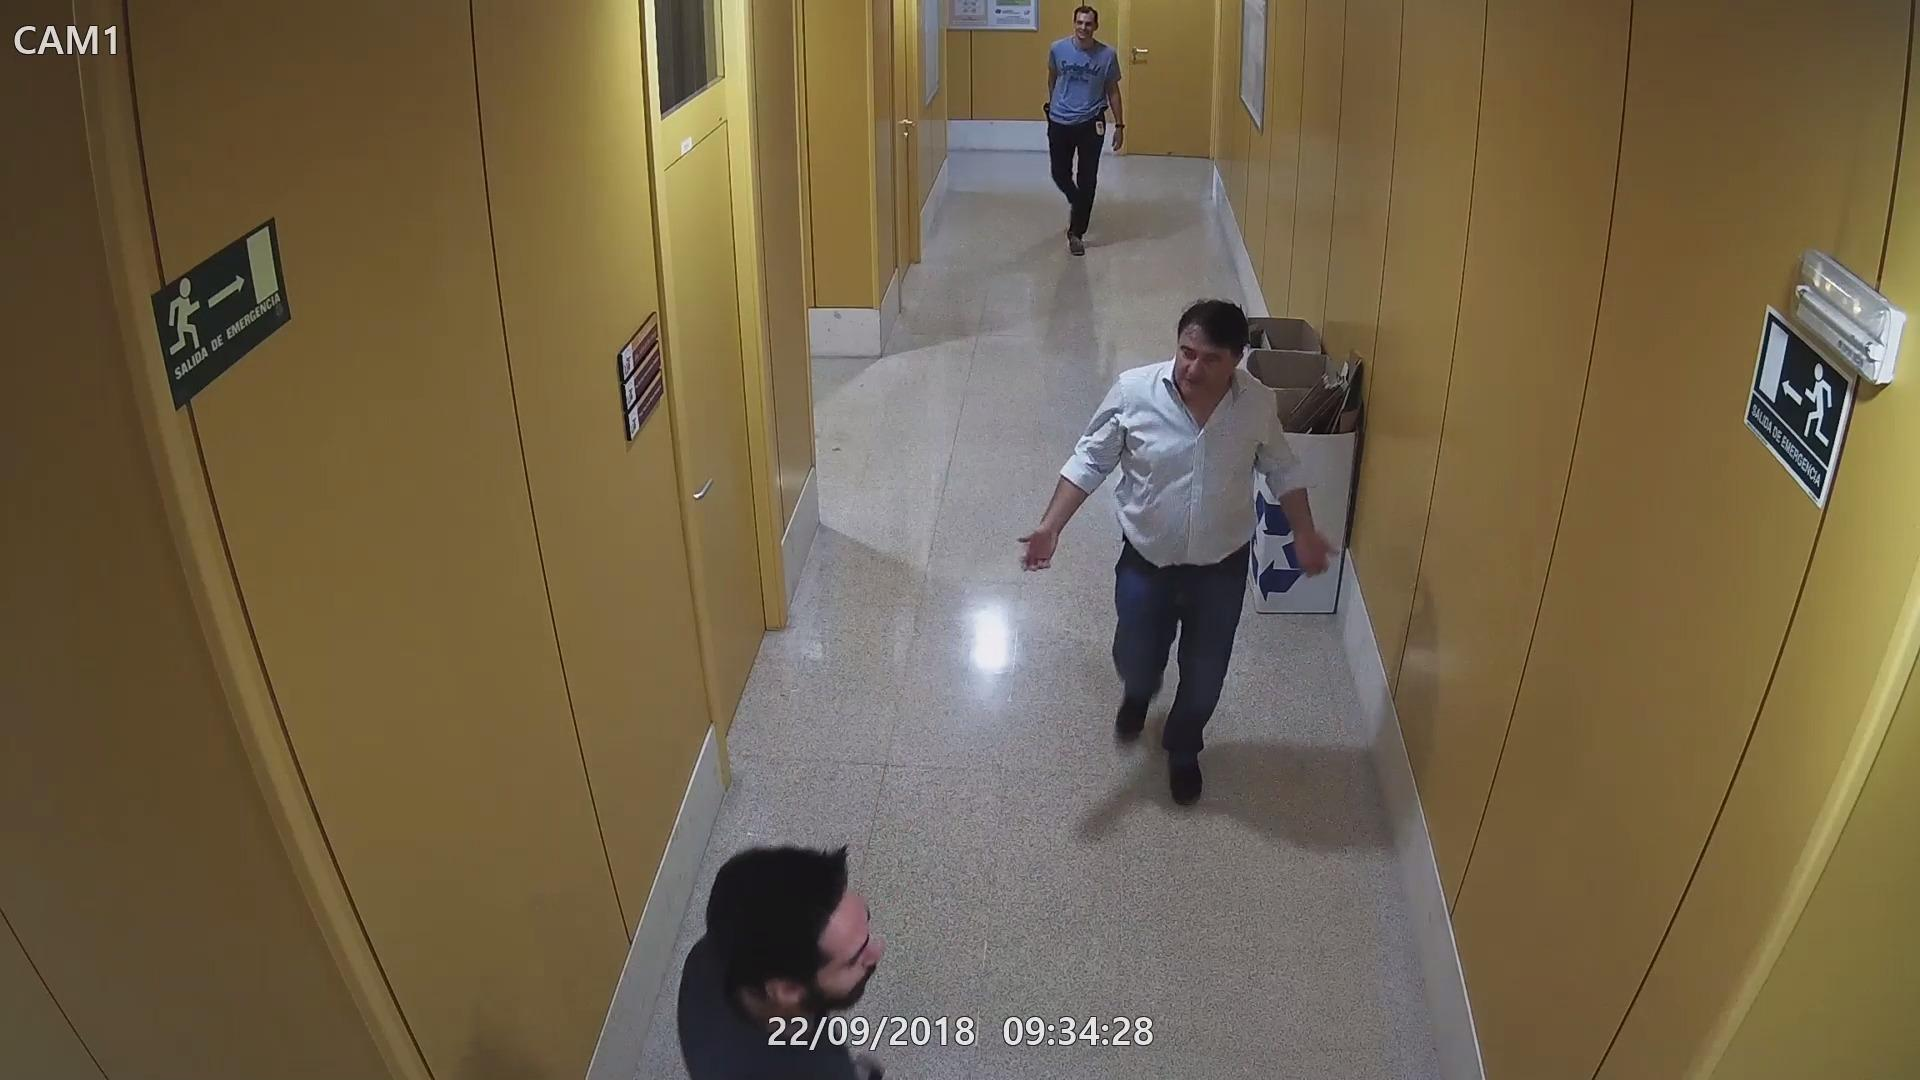Handgun: (1038, 98, 1052, 123)
